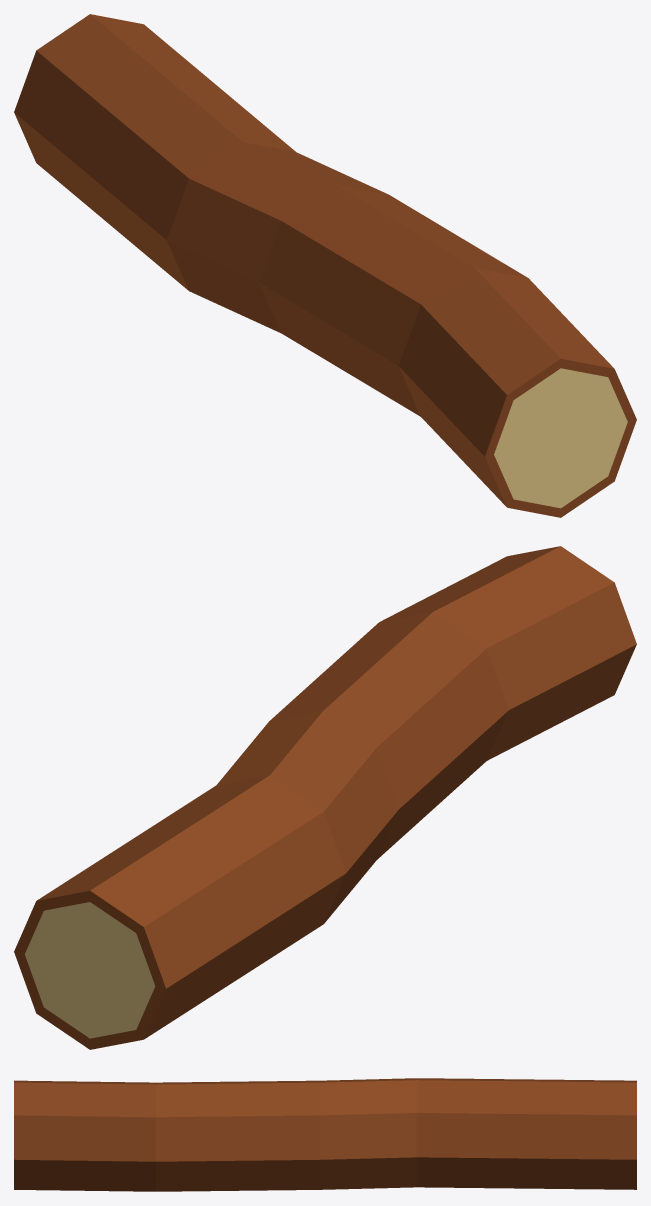
File: Log3.fbx
3 views of the same model, one above another, from view 1: azimuth 30°, elevation 25°; view 2: azimuth 150°, elevation 25°; view 3: azimuth 270°, elevation 25° (orthographic). The views are drawn at different scales.
Visible parts, largest first — view 1: Log_3; view 2: Log_3; view 3: Log_3.
Part boxes in pixels (bbox=[...]): Log_3: bbox=[14, 14, 636, 517]; Log_3: bbox=[14, 546, 636, 1049]; Log_3: bbox=[14, 1078, 636, 1191].
Size of the model in its own units: 245 by 213 by 1072.
